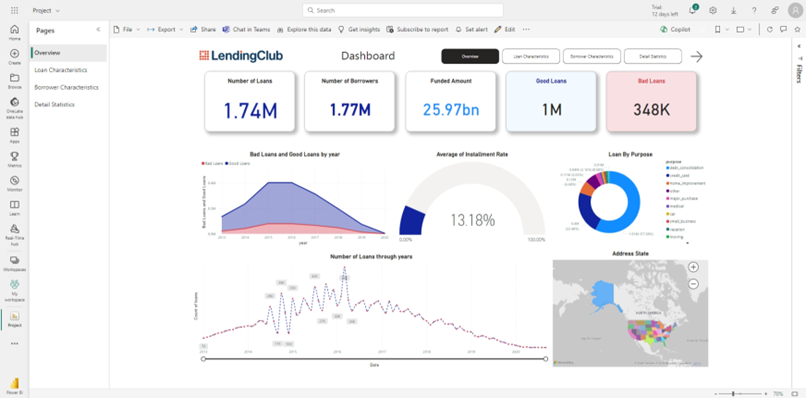

The page's visual inventory and layout, read from the dashboard file:
{"tool":"powerbi","page":{"name":"Overview","canvas":[1720,1080],"ordinal":0},"visuals":[{"type":"image","box":[21.2,0,286.2,95],"z":0},{"type":"lineChart","title":"Number of Loans through years","fields":{"Y":["CountNonNull(Fact_Loan_Details.loan_id)"],"Category":["Dim_Time.issue_date"]},"box":[0,697.1,1192.9,382.9],"z":1000},{"type":"filledMap","title":"Address State","fields":{"Category":["Dim_Borrower.addr_state"],"Series":["Dim_Borrower.addr_state"]},"box":[1192.9,682.9,527.1,397.1],"z":2000},{"type":"actionButton","box":[1650,23.3,50,50],"z":3000},{"type":"pageNavigator","box":[828.6,21.4,800,50],"z":4000},{"type":"donutChart","title":"Loan By Purpose","fields":{"Category":["Dim_Loan.purpose"],"Y":["CountNonNull(Fact_Loan_Details.loan_id)"]},"box":[1192.9,338.6,527.1,338.6],"z":5000},{"type":"card","title":"Number of Borrowers","fields":{"Values":["CountNonNull(Dim_Borrower.borrower_id)"]},"box":[374.3,95.7,300,200],"z":6000},{"type":"card","title":"Number of Loans","fields":{"Values":["CountNonNull(Dim_Loan.loan_id)"]},"box":[42.9,95.7,300,200],"z":7000},{"type":"card","title":"Funded Amount","fields":{"Values":["Sum(Fact_Loan_Details.funded_amnt)"]},"box":[710,95.7,300,200],"z":8000},{"type":"stackedAreaChart","fields":{"Category":["Dim_Time.year"],"Y":["Fact_Loan_Details.Charged Off","Fact_Loan_Details.Fully Paid"]},"box":[27.1,338.6,631.4,338.6],"z":9000},{"type":"card","title":"Bad Loans","fields":{"Values":["Fact_Loan_Details.Charged Off"]},"box":[1375.7,95.7,300,200],"z":10000},{"type":"card","title":"Good Loans","fields":{"Values":["Fact_Loan_Details.Fully Paid"]},"box":[1042.9,95.7,300,200],"z":11000},{"type":"gauge","title":"Average of Installment Rate","fields":{"Y":["Avg(Fact_Loan_Details.Int_Rate)"]},"box":[684.3,338.6,494.3,344.3],"z":12000},{"type":"textbox","box":[342.9,11.4,485.7,71.4],"z":13000}]}

Visuals, with their boxes on the page's 1720x1080 design canvas (x1, y1, x2, y2). These are canvas units, not pixel positions in the 806x398 screenshot, which may show the page scaled, cropped or inside an application window:
image: bbox(21, 0, 307, 95)
"Number of Loans through years" lineChart: bbox(0, 697, 1193, 1080)
"Address State" filledMap: bbox(1193, 683, 1720, 1080)
actionButton: bbox(1650, 23, 1700, 73)
pageNavigator: bbox(829, 21, 1629, 71)
"Loan By Purpose" donutChart: bbox(1193, 339, 1720, 677)
"Number of Borrowers" card: bbox(374, 96, 674, 296)
"Number of Loans" card: bbox(43, 96, 343, 296)
"Funded Amount" card: bbox(710, 96, 1010, 296)
stackedAreaChart - Dim_Time.year x Fact_Loan_Details.Charged Off: bbox(27, 339, 658, 677)
"Bad Loans" card: bbox(1376, 96, 1676, 296)
"Good Loans" card: bbox(1043, 96, 1343, 296)
"Average of Installment Rate" gauge: bbox(684, 339, 1179, 683)
textbox: bbox(343, 11, 829, 83)
